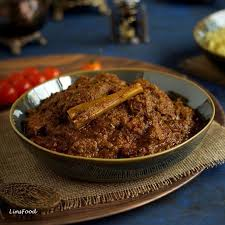rendang: (18, 50, 224, 181)
